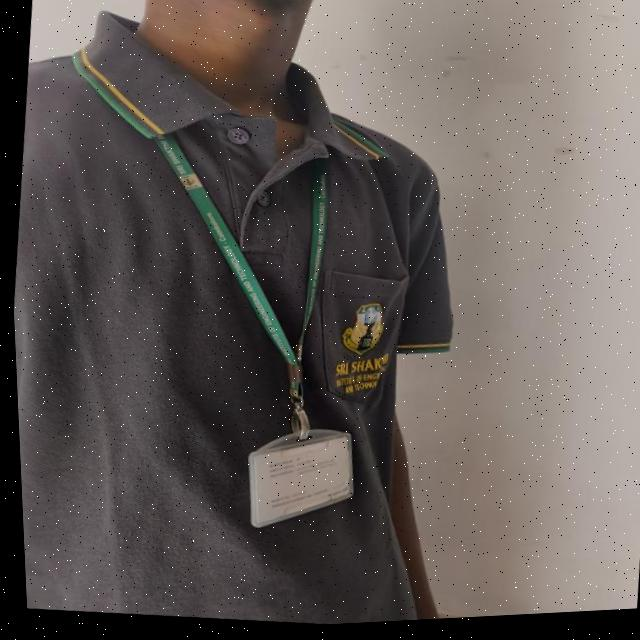id_card: (87, 88, 428, 563)
